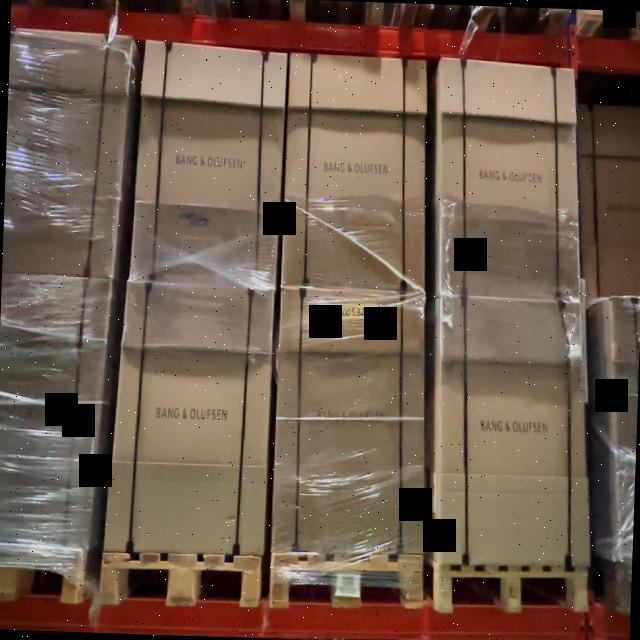box: (102, 278, 278, 553), (268, 285, 427, 557), (432, 293, 588, 567), (126, 38, 287, 288), (279, 53, 429, 290), (433, 55, 577, 299)
